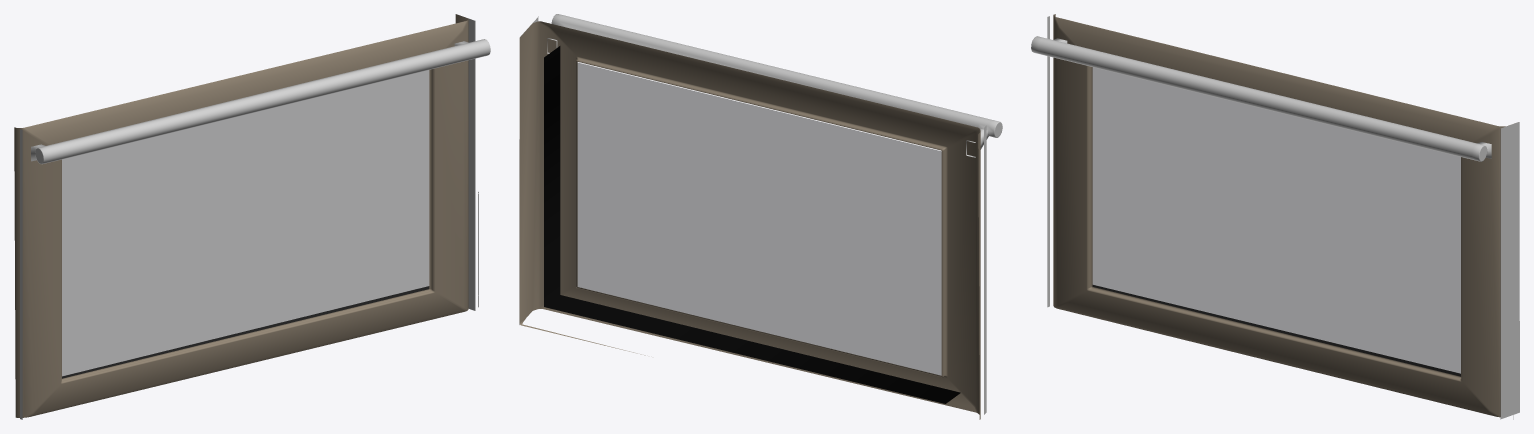
File: 405Door4.obj
3 renders of one model, left to right at view 1: azimuth 30°, elevation 25°; view 2: azimuth 150°, elevation 25°; view 3: azimuth 330°, elevation 25°, orthographic.
Parts seen in each view (by area): view 1: 405.001; view 2: 405.001; view 3: 405.001.
Part boxes in pixels (box(x1,y1,x2,y2)): 405.001: box(14, 14, 490, 419); 405.001: box(519, 14, 1002, 419); 405.001: box(1031, 14, 1519, 419).
Bounding box in the file's own units: 0.8563 × 0.5303 × 0.1223.
